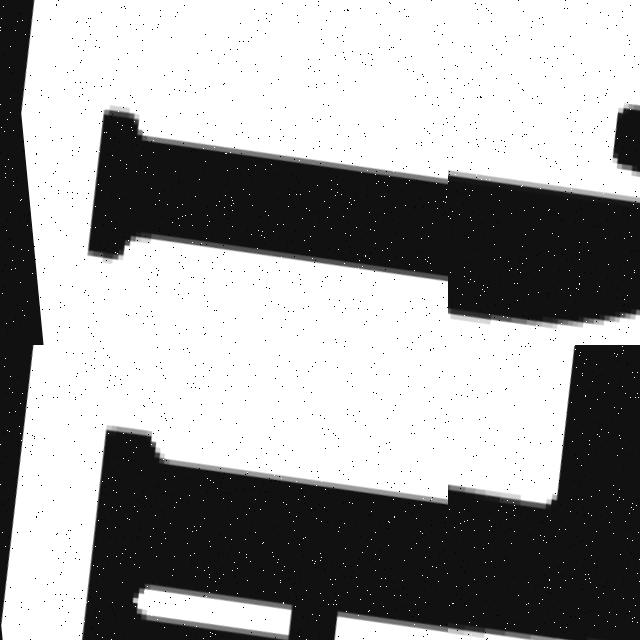C: (448, 175, 640, 334)
H: (74, 426, 448, 640), (448, 345, 640, 640)
J: (46, 77, 448, 345)
